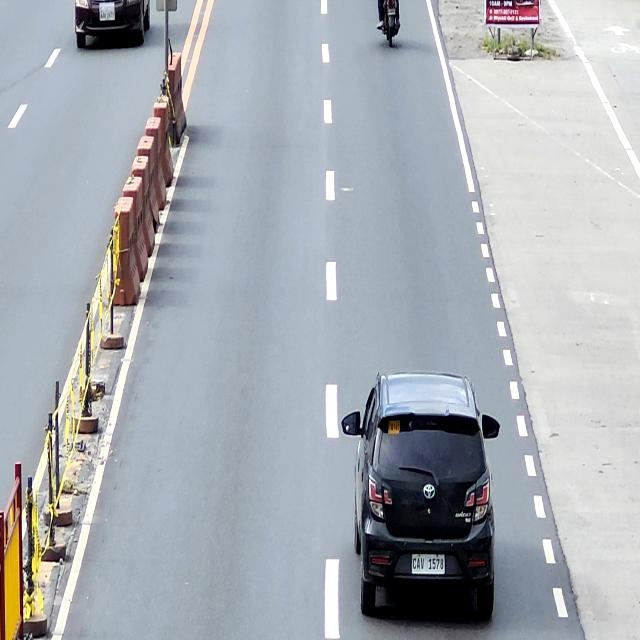Car: (340, 370, 500, 620), (75, 0, 150, 49)
License-Plate: (410, 551, 446, 575), (98, 10, 115, 22), (387, 8, 396, 16)
Motorcycle: (377, 0, 400, 47)
